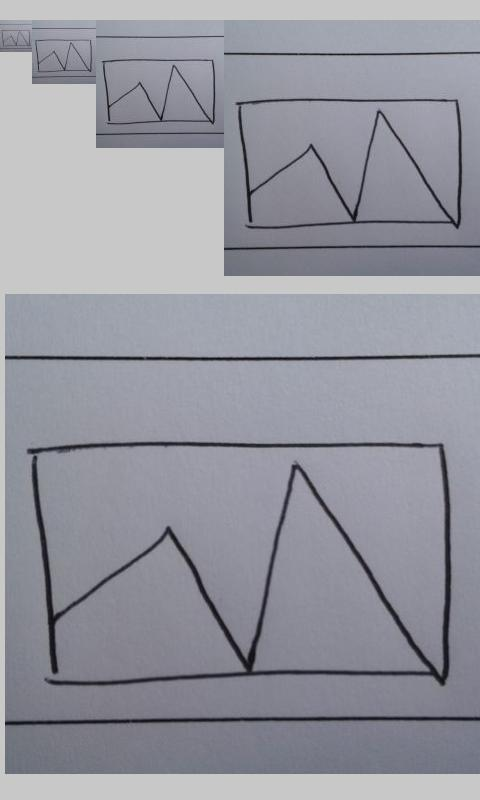image_view: (31, 440, 457, 690), (237, 96, 464, 231), (102, 59, 217, 125), (35, 39, 93, 73), (1, 29, 31, 47)
